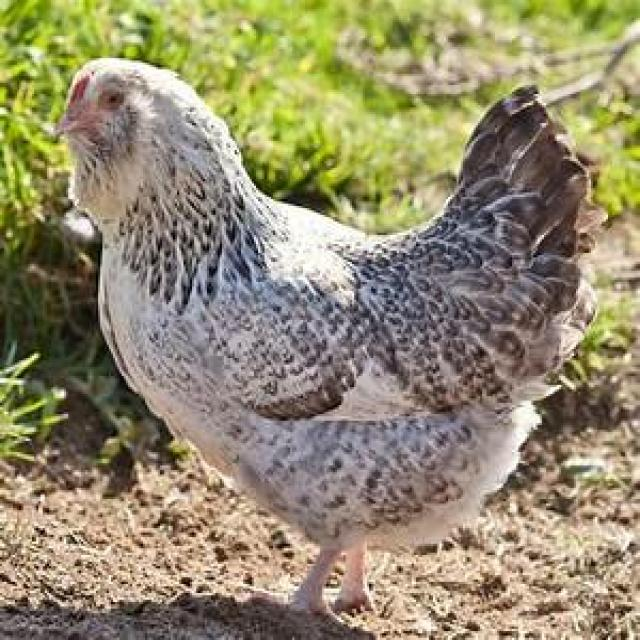hen: (55, 58, 602, 620)
